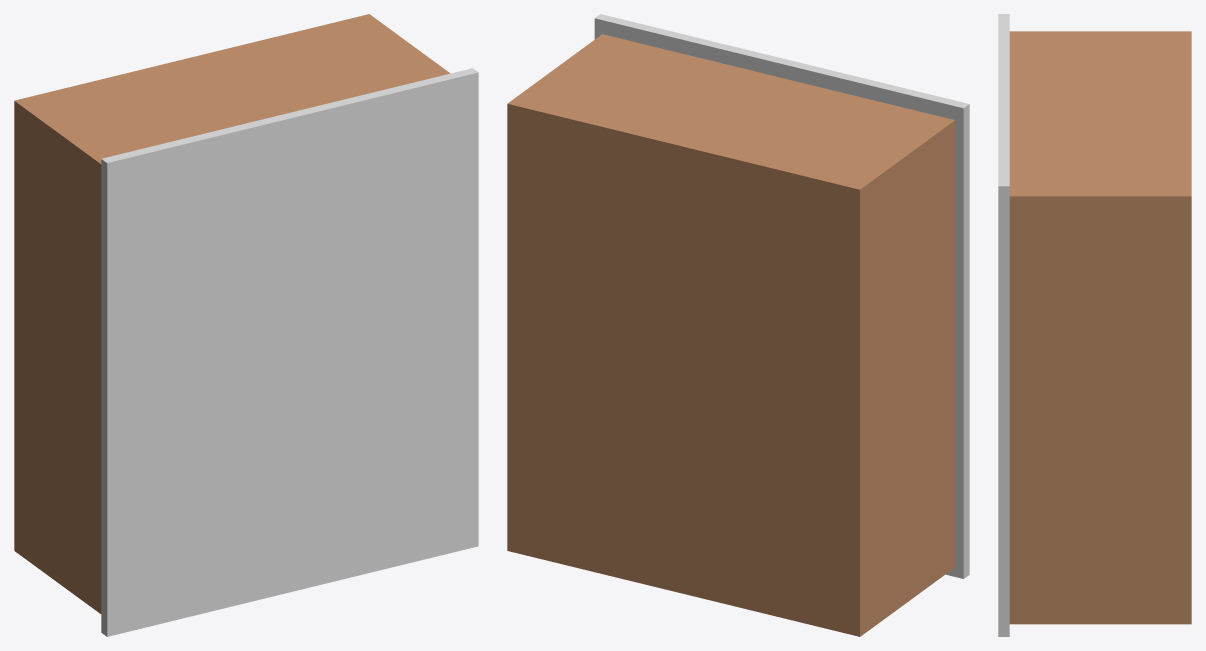
Rendered from MedCabFinal.fbx.
3 renders of one model, left to right at view 1: azimuth 30°, elevation 25°; view 2: azimuth 150°, elevation 25°; view 3: azimuth 270°, elevation 25°, orthographic. The views are drawn at different scales.
Visible parts, largest first — view 1: MedCab; view 2: MedCab; view 3: MedCab.
Part boxes in pixels (<box>): MedCab: <box>14,14,478,636</box>; MedCab: <box>507,14,969,636</box>; MedCab: <box>998,14,1191,636</box>.
Bounding box in the file's own units: 0.5508 × 0.6711 × 0.2609.
